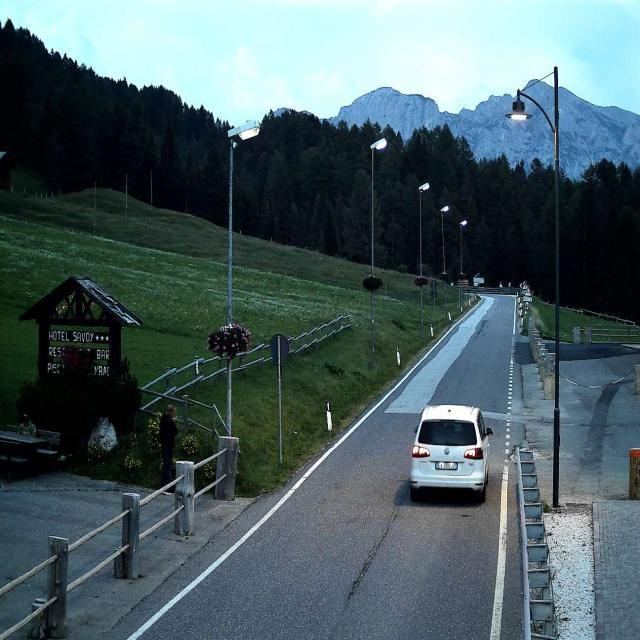car: (409, 403, 494, 500)
